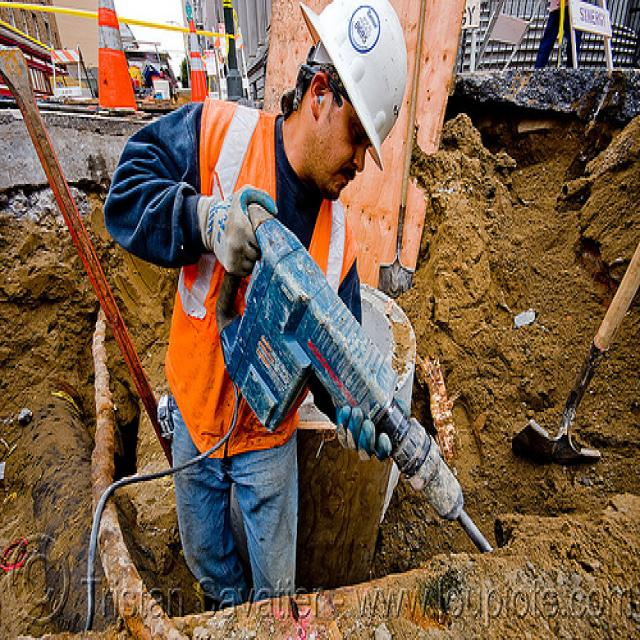Reflective-Jacket: (166, 102, 354, 454)
Safety-Helmet: (300, 0, 412, 171)
